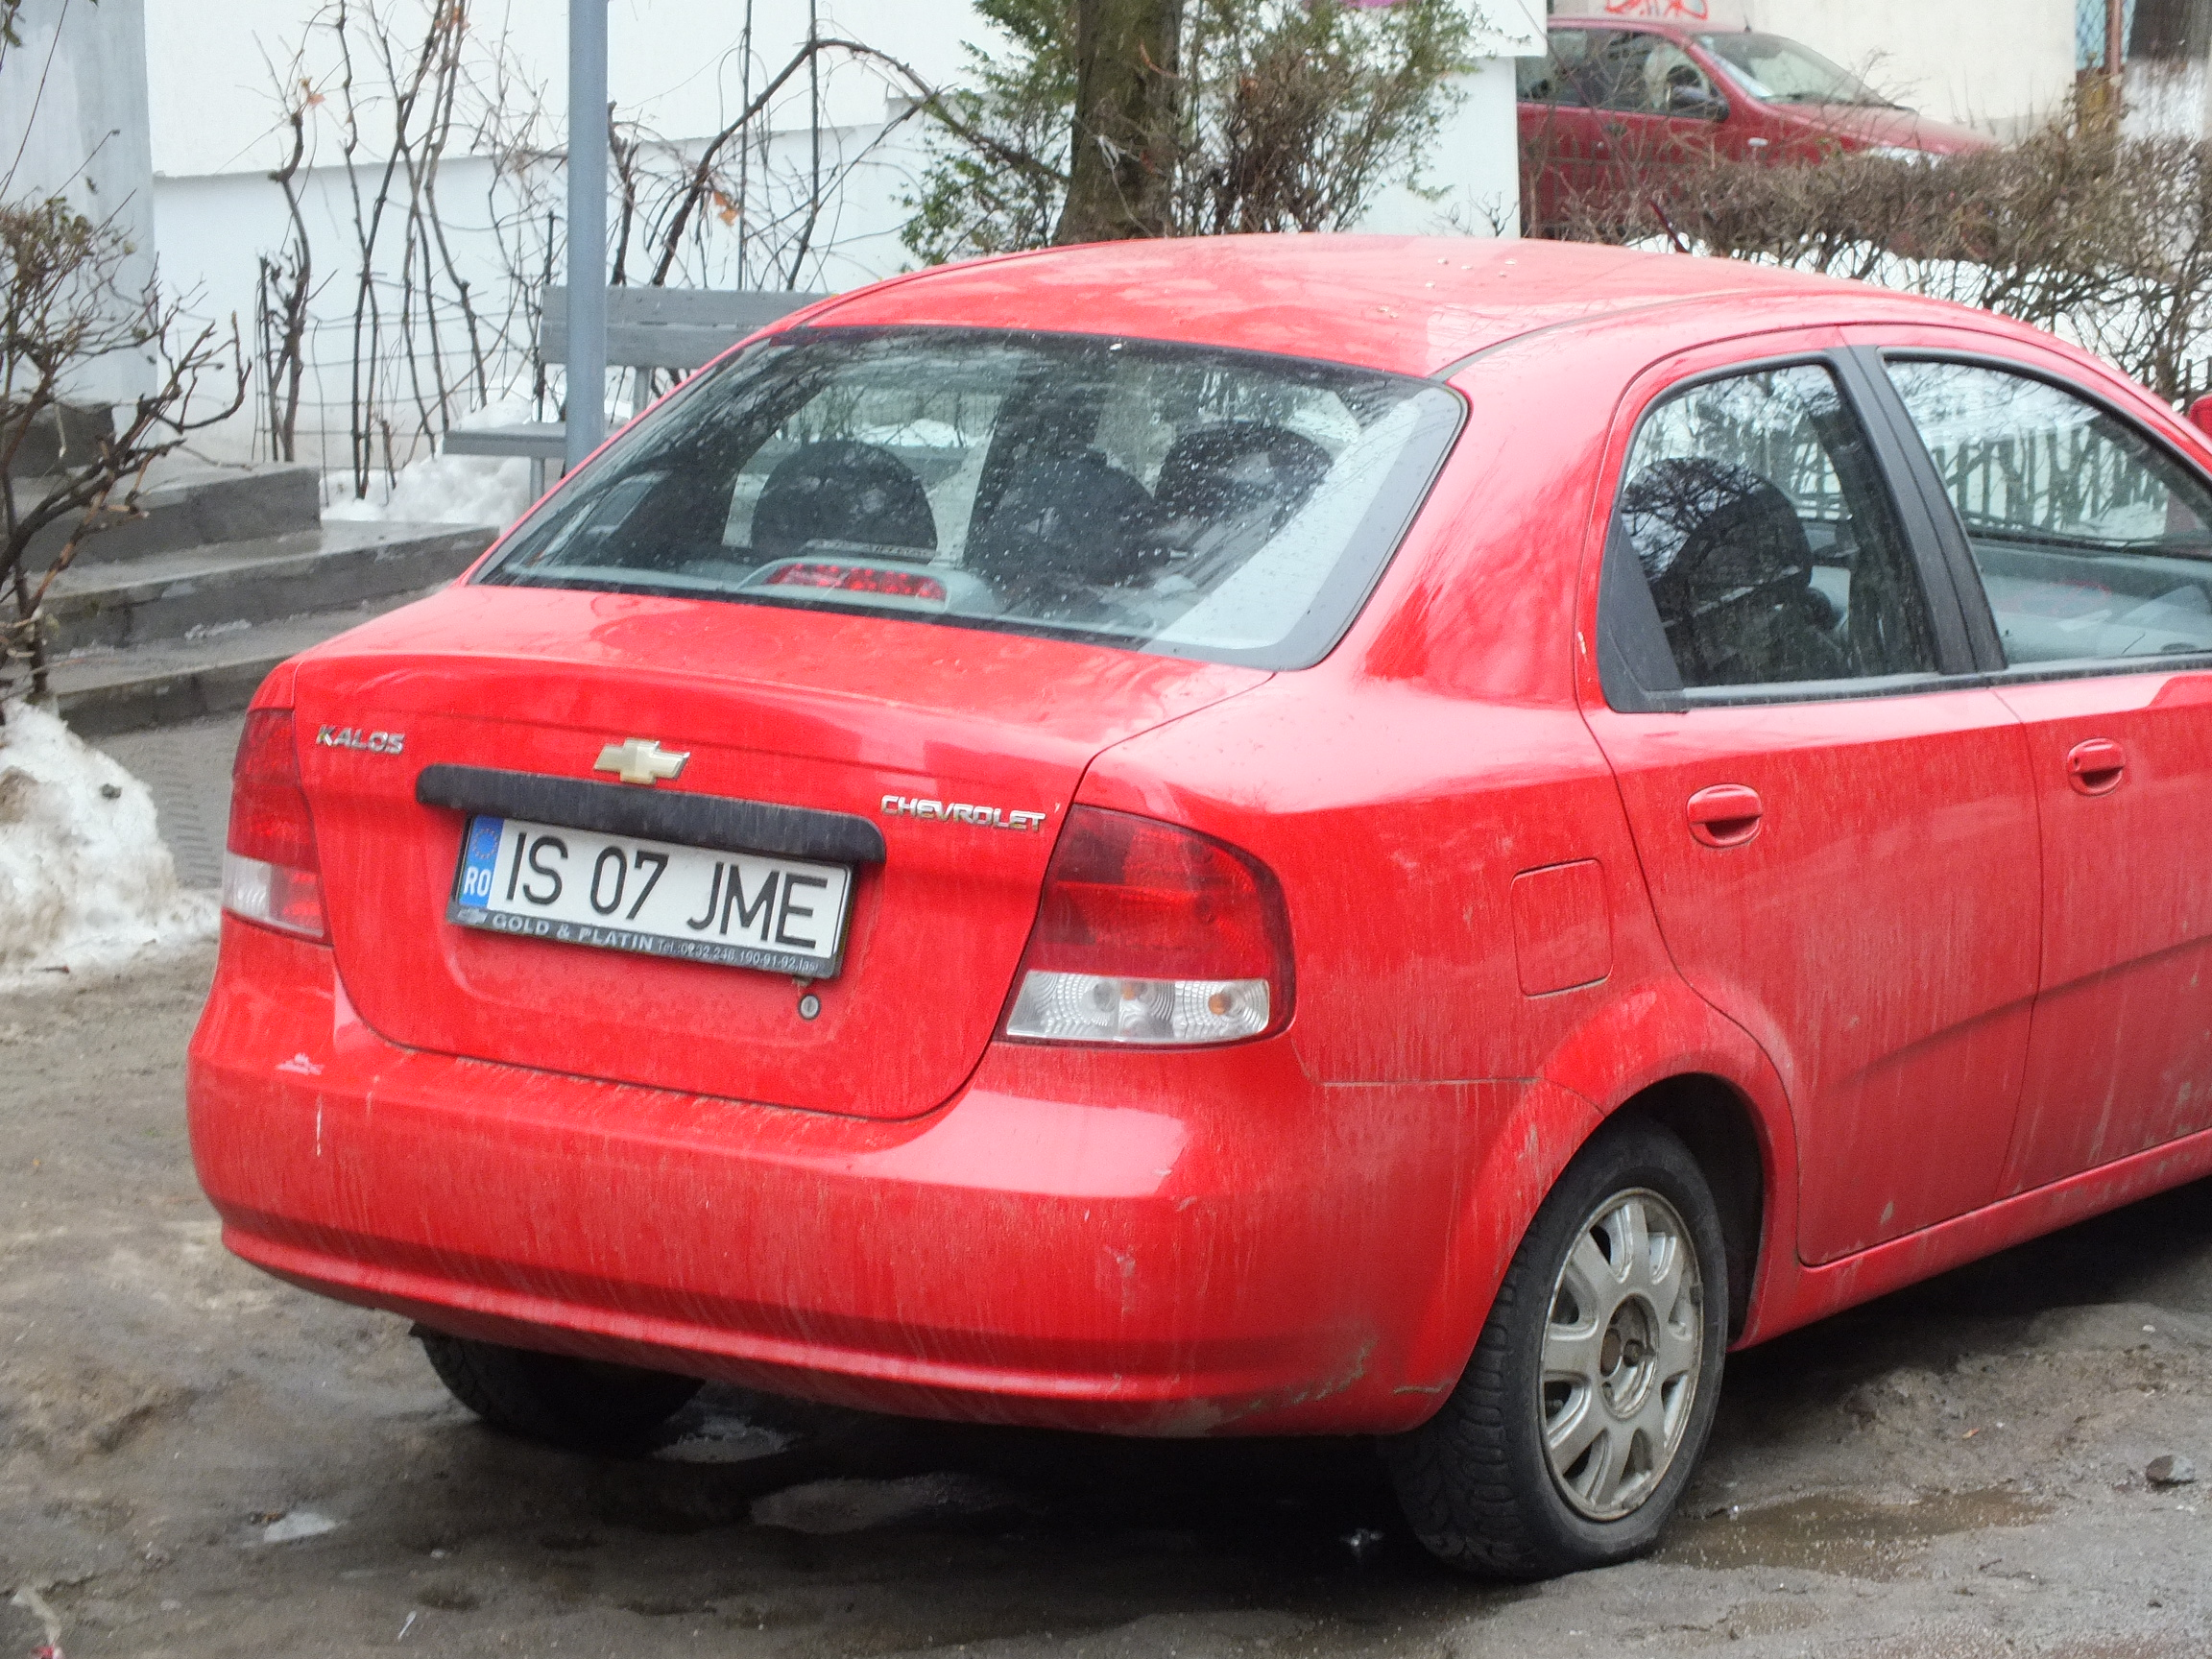IS07JME: (445, 823, 841, 956)
